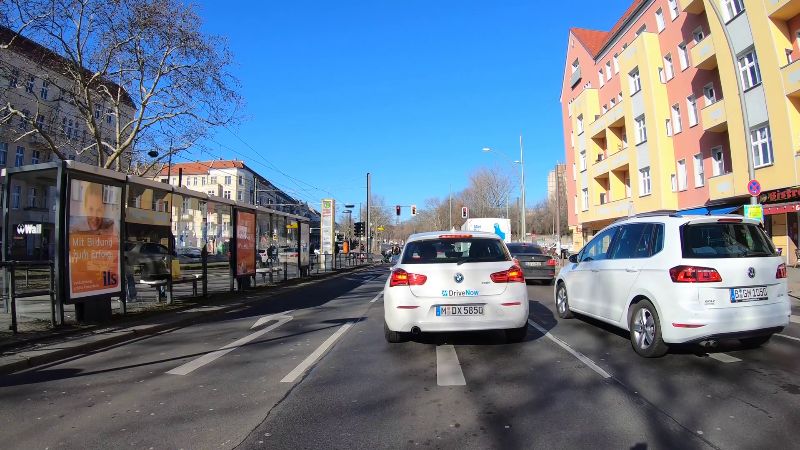Plate: (730, 283, 770, 300), (434, 303, 485, 315)
